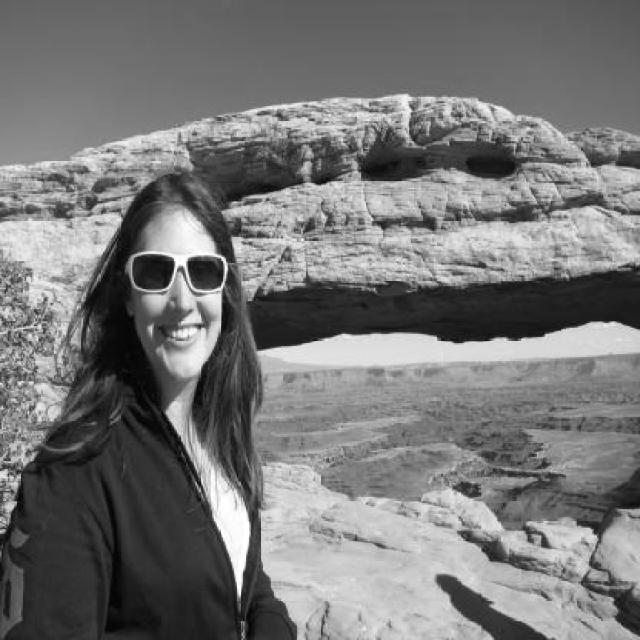face_nomask: (126, 246, 220, 357)
glasses: (114, 243, 231, 309)
head_helmet: (122, 172, 221, 245)
person: (5, 160, 268, 640)
